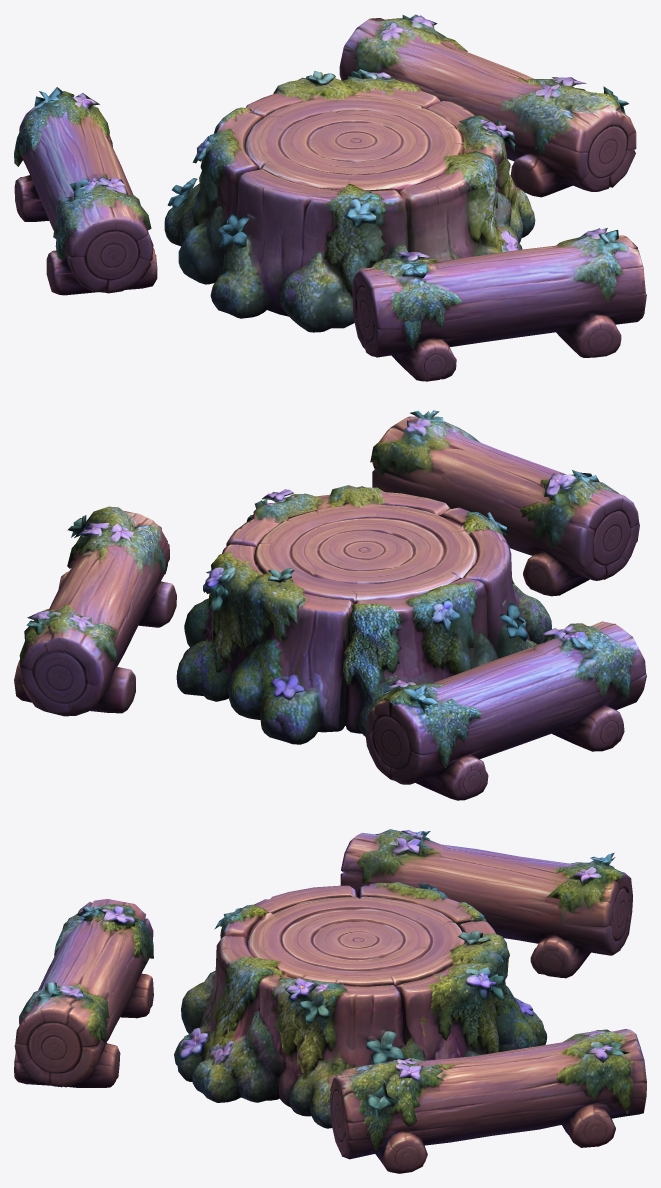
The model's file is Kit_H_StumpTable_HD_src.glb.
The picture shows the model from 3 angles, top to bottom: view 1: azimuth 30°, elevation 25°; view 2: azimuth 150°, elevation 25°; view 3: azimuth 270°, elevation 25°; orthographic projection. The views are drawn at different scales.
Parts seen in each view (by area): view 1: tripo_node_e1e799d5-1d23-491c-9f8d-02bba75ea198; view 2: tripo_node_e1e799d5-1d23-491c-9f8d-02bba75ea198; view 3: tripo_node_e1e799d5-1d23-491c-9f8d-02bba75ea198.
Part boxes in pixels (<box>): tripo_node_e1e799d5-1d23-491c-9f8d-02bba75ea198: <box>14,14,646,381</box>; tripo_node_e1e799d5-1d23-491c-9f8d-02bba75ea198: <box>14,410,646,800</box>; tripo_node_e1e799d5-1d23-491c-9f8d-02bba75ea198: <box>14,829,646,1173</box>.
Size of the model in its own units: 0.9764 by 0.2301 by 0.9794.
Materials: 1 (1 with a texture image).
